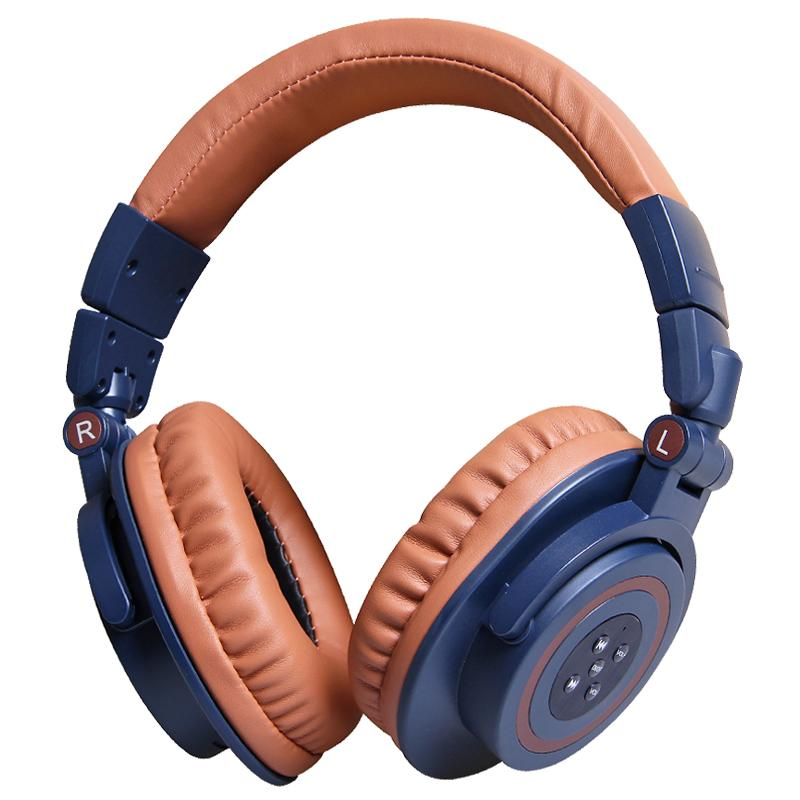Headphone: (53, 6, 753, 800)
